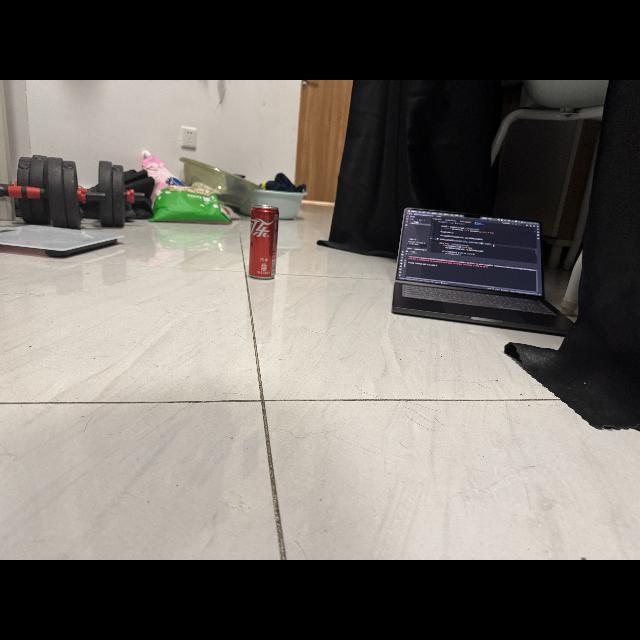Cola: (244, 199, 286, 287)
